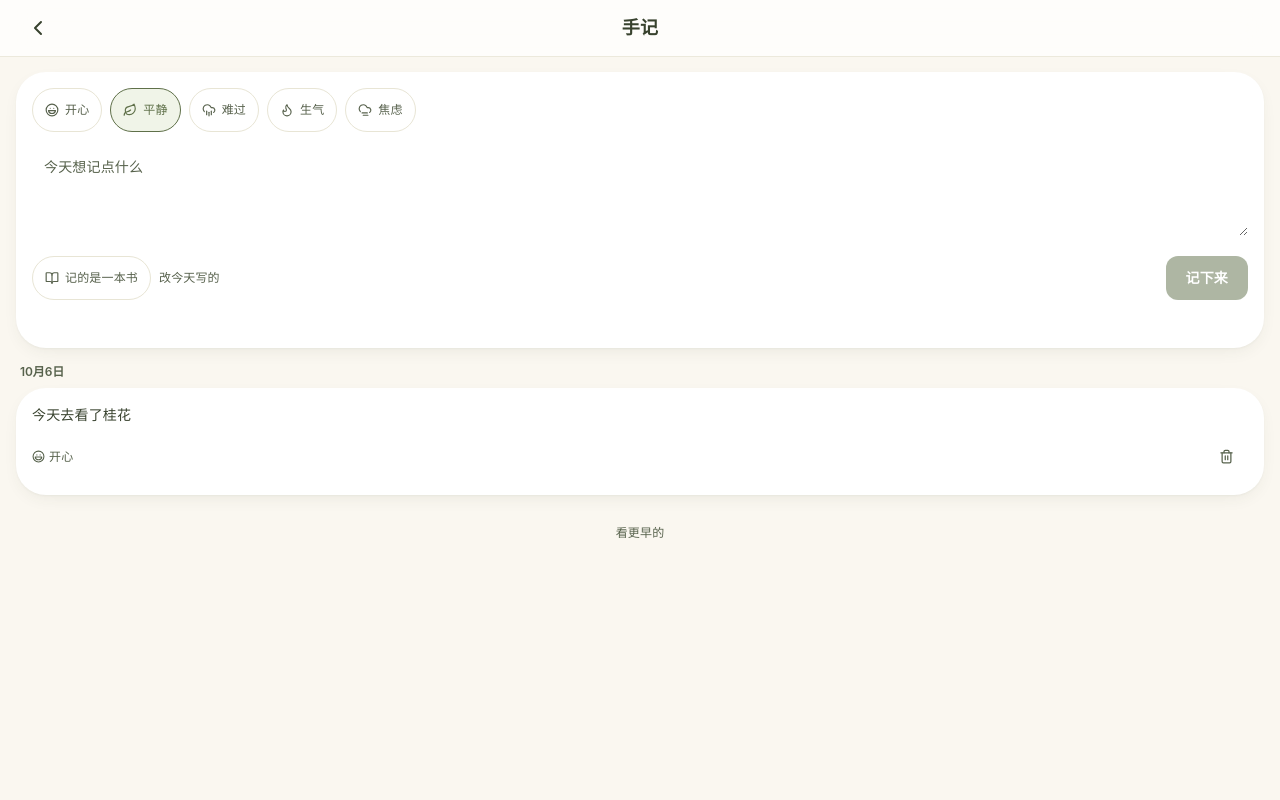
Scenario: 手记 › 删除要先确认，失败时内容还在
Click the button named "删除 10月6日 的日记": [1226, 457] box [1204,435,1248,479]
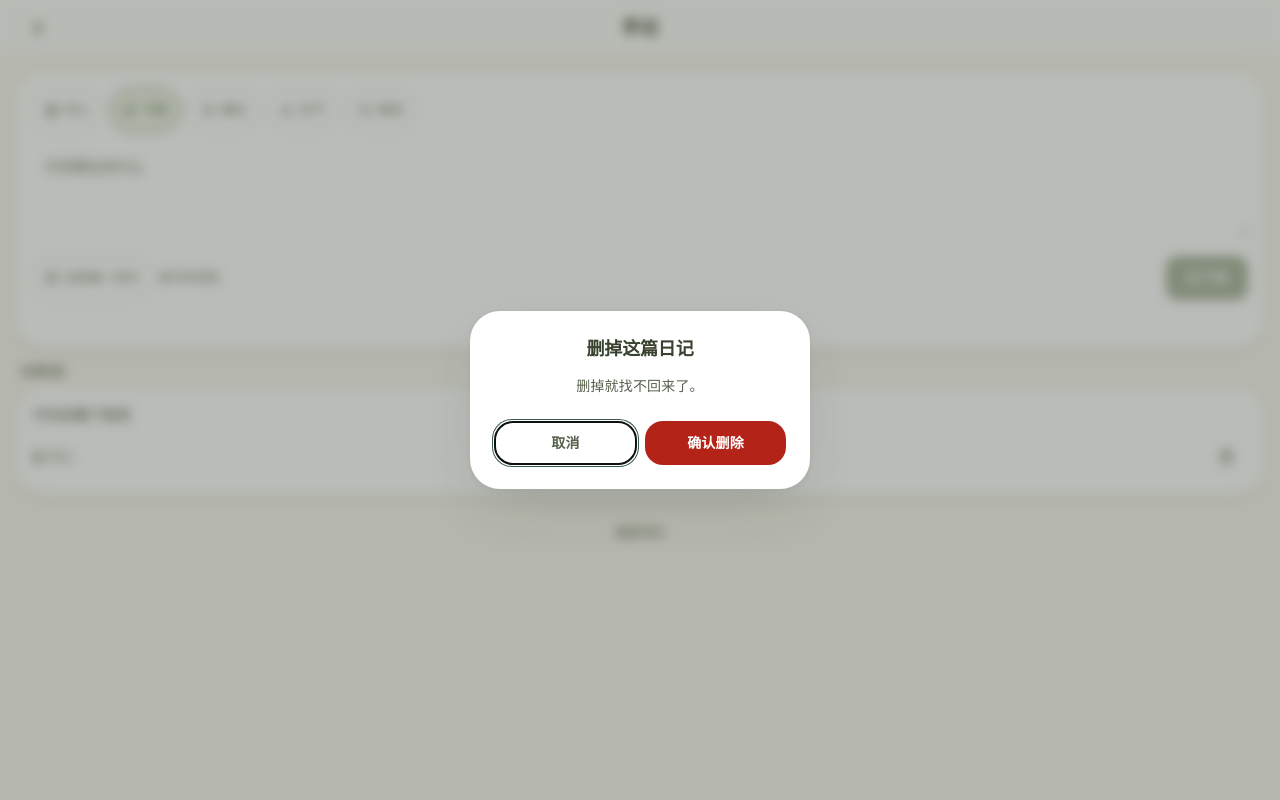
Click the button "确认删除": [716, 443] box [645,421,786,465]
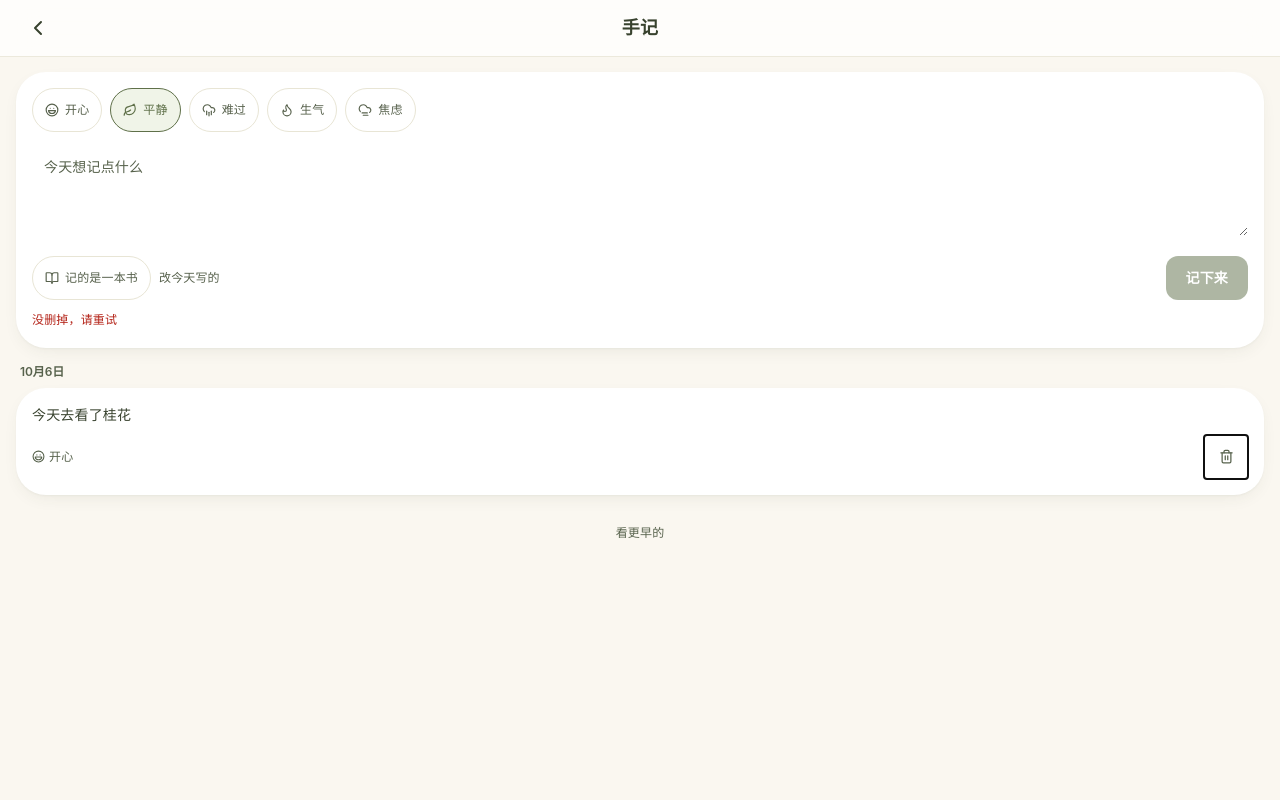
Expected: the text "今天去看了桂花" is shown, [32,406,131,423]
Now the text "没删掉，请重试" is shown, box [32,312,117,327]
